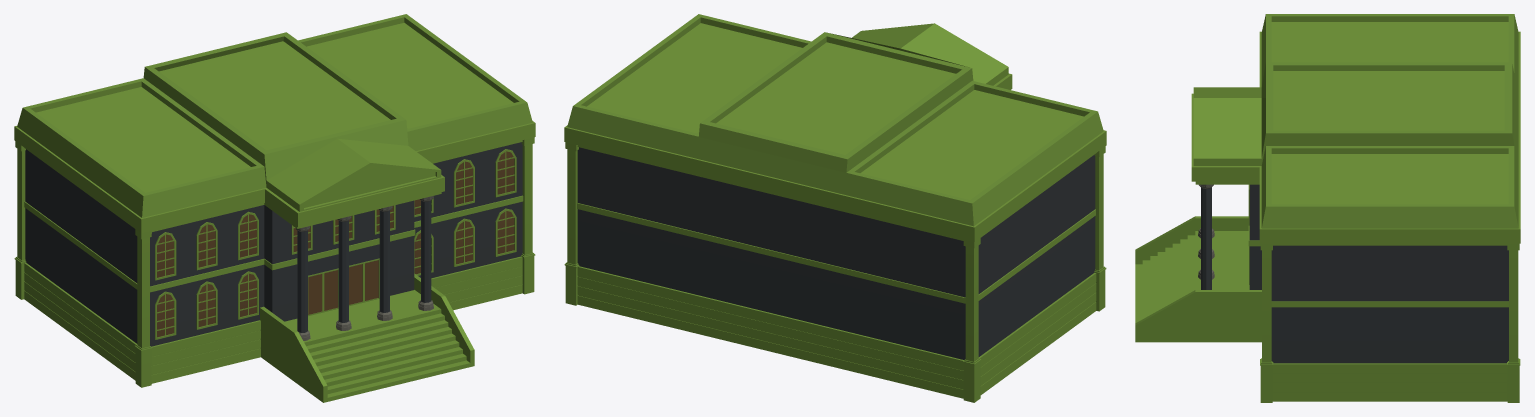
The model's file is CityHall_03.fbx.
The picture shows the model from 3 angles, left to right: view 1: azimuth 30°, elevation 25°; view 2: azimuth 150°, elevation 25°; view 3: azimuth 270°, elevation 25°; orthographic projection. The views are drawn at different scales.
Visible parts, largest first — view 1: CityHall_03; view 2: CityHall_03; view 3: CityHall_03.
Boxes of the visible parts, x1,y1,x2,y2 form: CityHall_03: [14, 14, 535, 402]; CityHall_03: [564, 14, 1106, 402]; CityHall_03: [1135, 14, 1520, 402].
Bounding box in the file's own units: 22.6 × 11 × 18.6.
